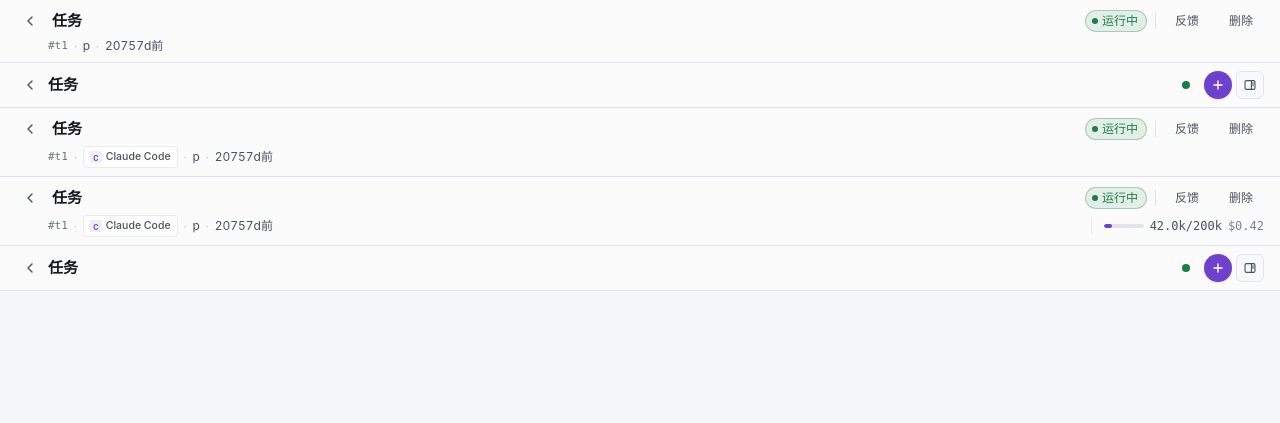
需求 2：中止入口唯一 › 移动端：agent 不再占头部行，改为状态浮层里可见（输入条上另见 composer-agent）
The image size is (1280, 423).
Click the 2nd button with test id "session-status": (1186, 268) left=1172, top=254, right=1200, bottom=282
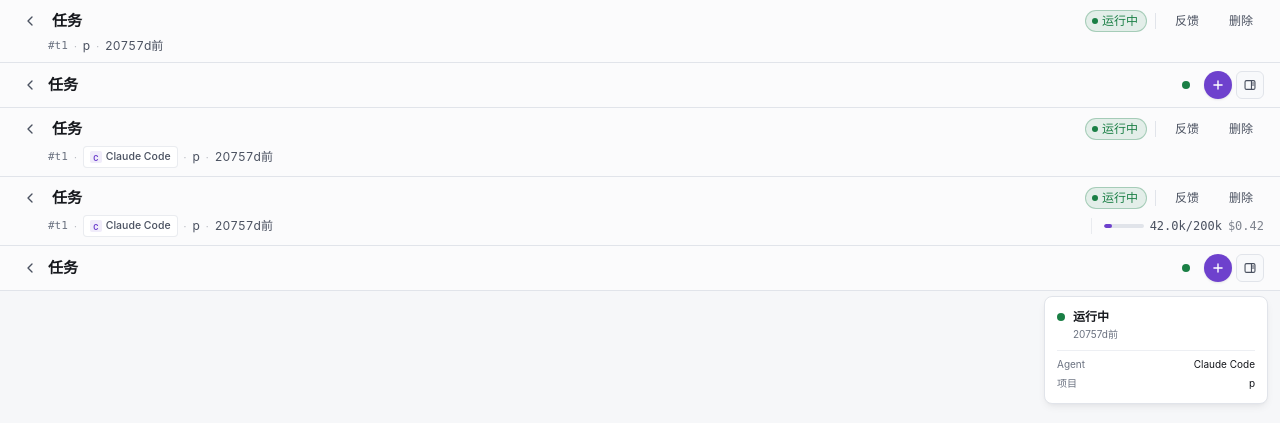
Now the element with test id "session-status-pop" is shown, box left=1044, top=296, right=1268, bottom=404
Now the element with test id "session-status-pop" shows "运行中", box left=1073, top=309, right=1109, bottom=324
Now the element with test id "session-status-agent" shows "Claude Code", box left=1194, top=358, right=1255, bottom=370
